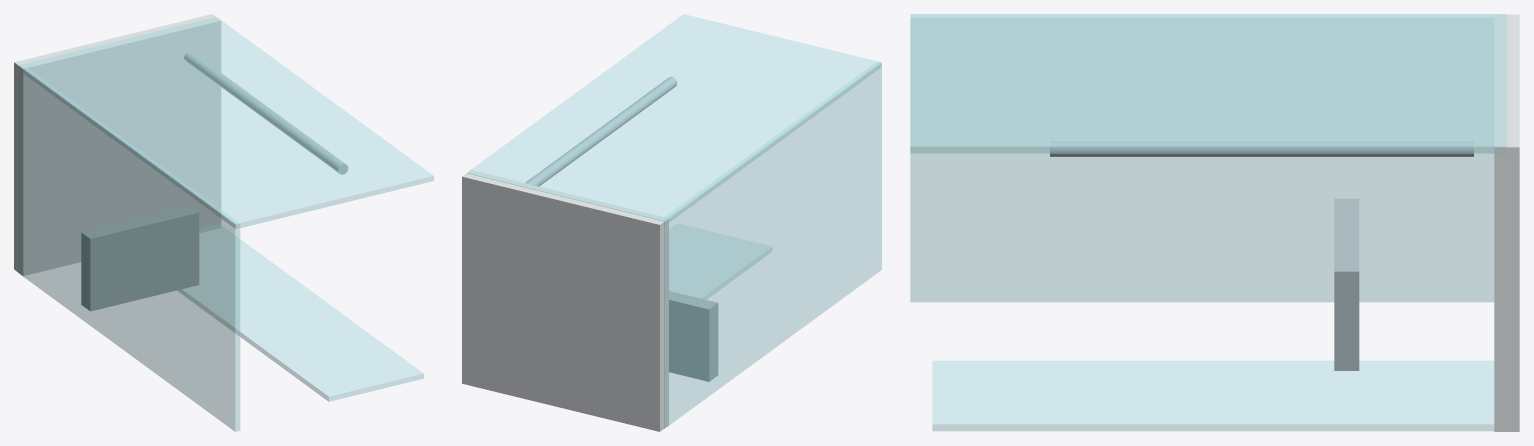
Rendered from roll-in-shower-bench.glb.
3 views of the same model, side by side, from view 1: azimuth 30°, elevation 25°; view 2: azimuth 150°, elevation 25°; view 3: azimuth 270°, elevation 25° (orthographic). The views are drawn at different scales.
Parts seen in each view (by area): view 1: world; view 2: world; view 3: world.
Part boxes in pixels (x1=…): world: x1=14, y1=14, x2=433, y2=431; world: x1=462, y1=14, x2=881, y2=431; world: x1=910, y1=14, x2=1519, y2=431.
Size of the model in its own units: 1 by 1 by 1.94.
